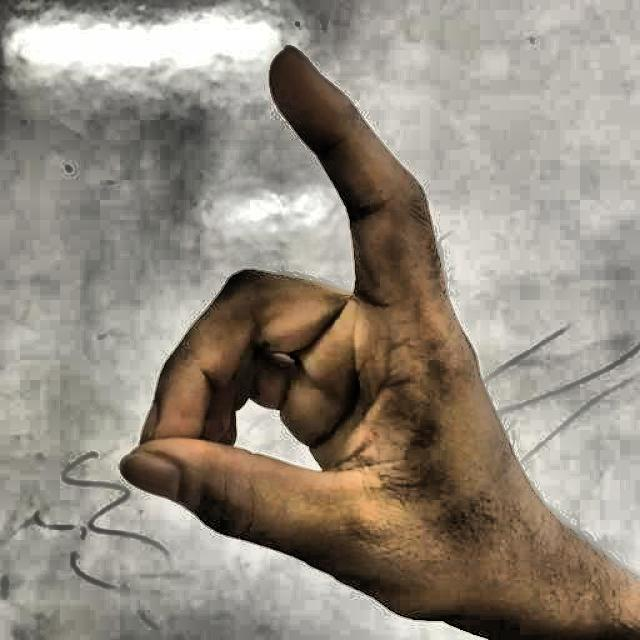Dha: (100, 29, 560, 640)
